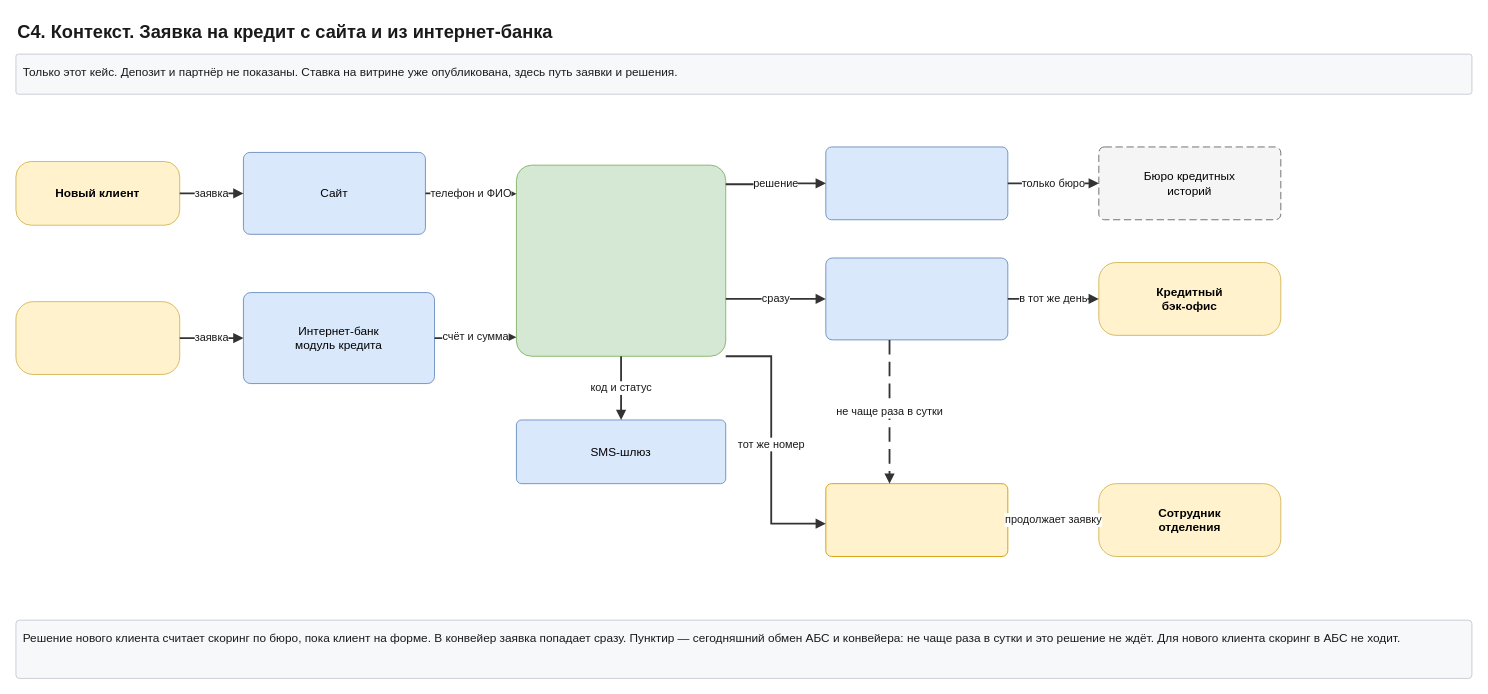
This 1488x694 diagram has some shape labels left out. Here are the shapes that lost their labels. From the top down, the centre of each, then its label:
At (x=916, y=183): "Скоринг".
At (x=621, y=260): "Сервис заявок".
At (x=916, y=298): "Кредитный конвейер".
At (x=97, y=337): "Клиент интернет-банка".
At (x=916, y=519): "АБС".
